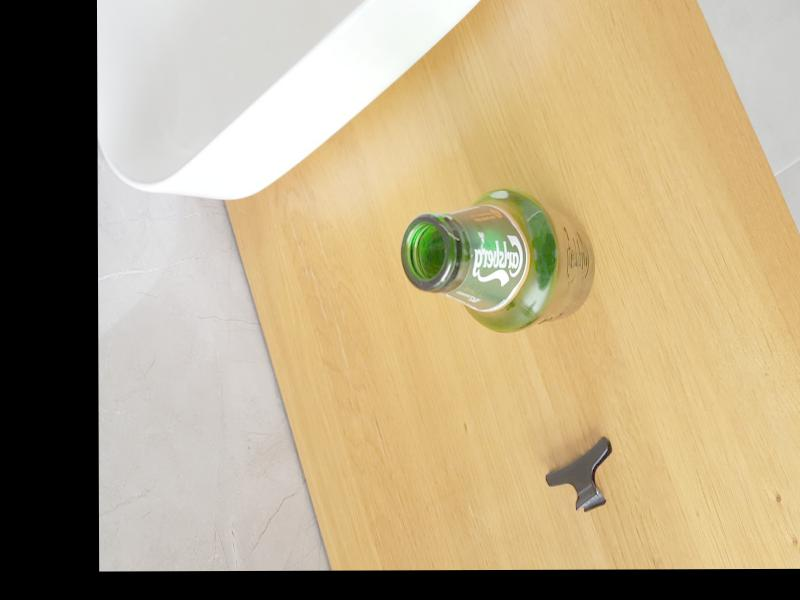Beer: (402, 186, 595, 333)
